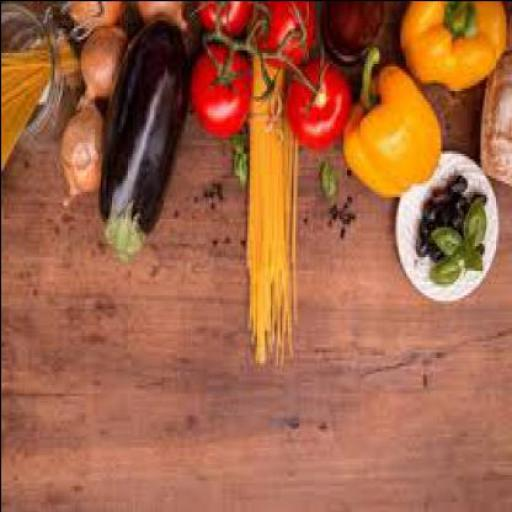biodegradable: (101, 14, 186, 254), (248, 52, 300, 359), (348, 44, 441, 196), (400, 2, 507, 88), (1, 38, 52, 169), (290, 46, 352, 145), (192, 41, 250, 134), (481, 43, 511, 183), (61, 96, 103, 196), (80, 22, 130, 104), (325, 0, 388, 60), (258, 1, 316, 65), (194, 1, 255, 36), (135, 1, 196, 27), (61, 0, 130, 22), (328, 188, 360, 234), (428, 250, 462, 280), (464, 201, 485, 237), (432, 224, 466, 246), (59, 33, 80, 68), (457, 242, 481, 270), (233, 131, 247, 172), (325, 158, 340, 193), (205, 177, 227, 196), (210, 228, 232, 246), (420, 218, 434, 240), (453, 171, 468, 191), (432, 183, 453, 196), (426, 193, 439, 213), (439, 201, 451, 221), (451, 210, 465, 223), (474, 188, 488, 201), (456, 193, 468, 207), (431, 242, 444, 254), (420, 237, 430, 250), (469, 196, 482, 206), (208, 196, 218, 204), (194, 194, 204, 201), (304, 212, 309, 224), (176, 205, 183, 212), (244, 234, 248, 245), (480, 240, 485, 247), (350, 164, 355, 168)
